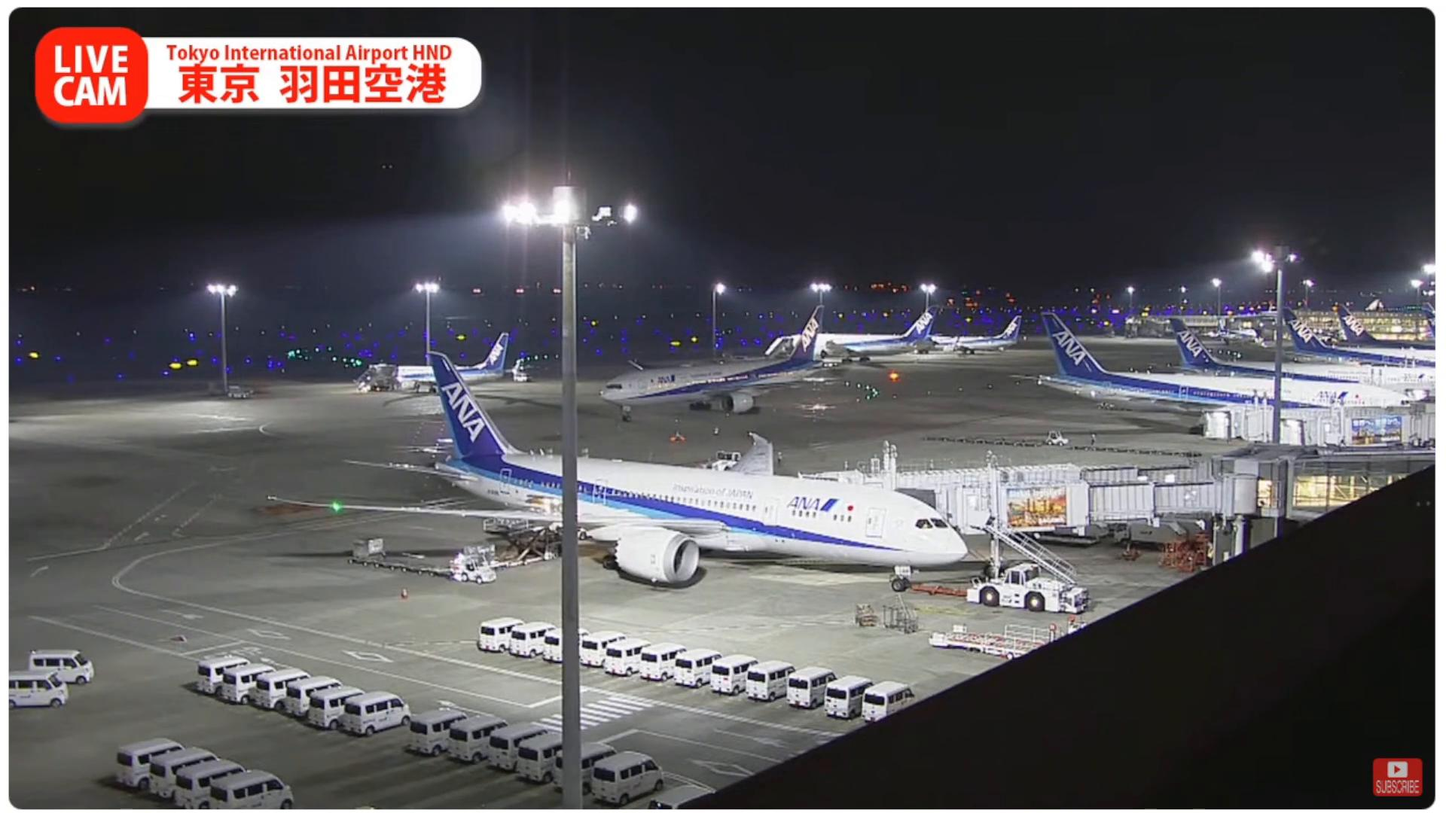APS: (967, 563, 1090, 614)
Aerobridge: (895, 475, 1256, 534), (792, 456, 1224, 487)
Airplane: (270, 351, 971, 589)
Dolly: (351, 537, 464, 582)
JCPL: (926, 624, 1063, 659), (481, 517, 563, 570)
Tractor: (457, 554, 497, 584)
Window: (1290, 455, 1437, 521)
